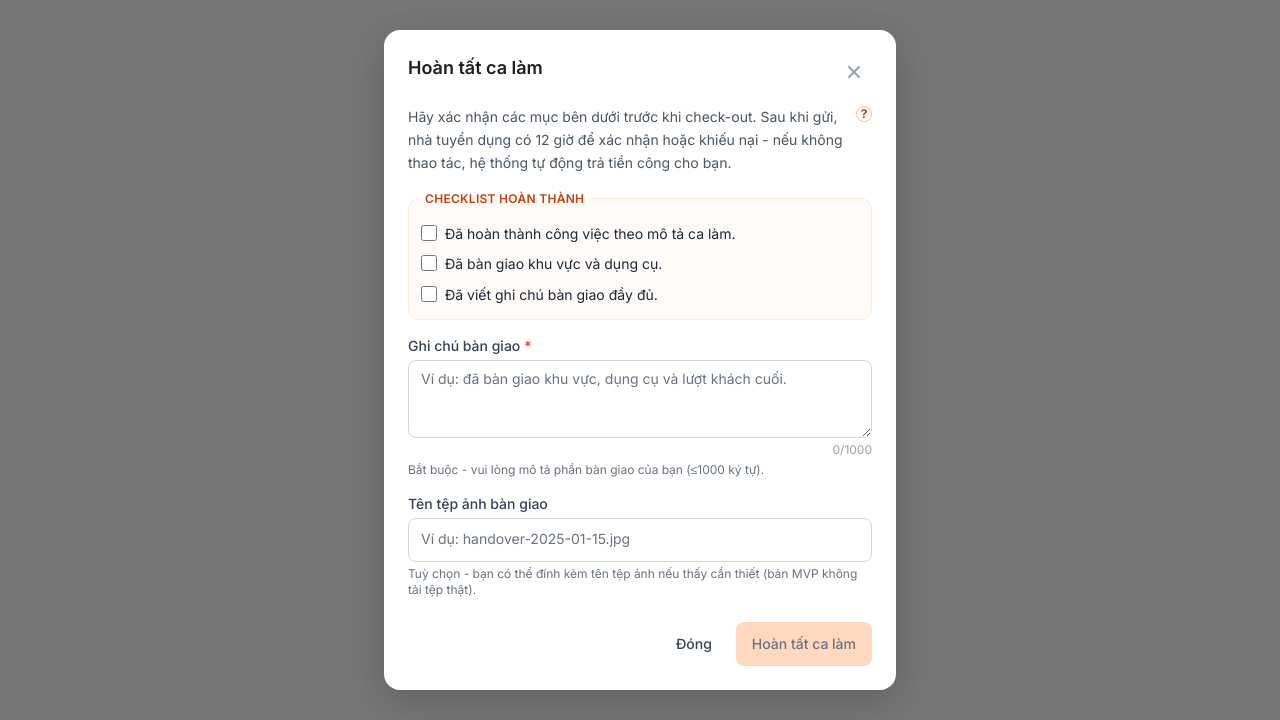
Scenario: <CheckoutDialog/> — Phase 10C › disables submit when RequiredHandoverChecklist is incomplete
The image size is (1280, 720).
Check: the button "Hoàn tất ca làm" is disabled, box [736,622,872,666]
Click the checkbox labelled "Đã hoàn thành công việc theo mô tả ca làm.": (429, 232) [421,224,437,240]
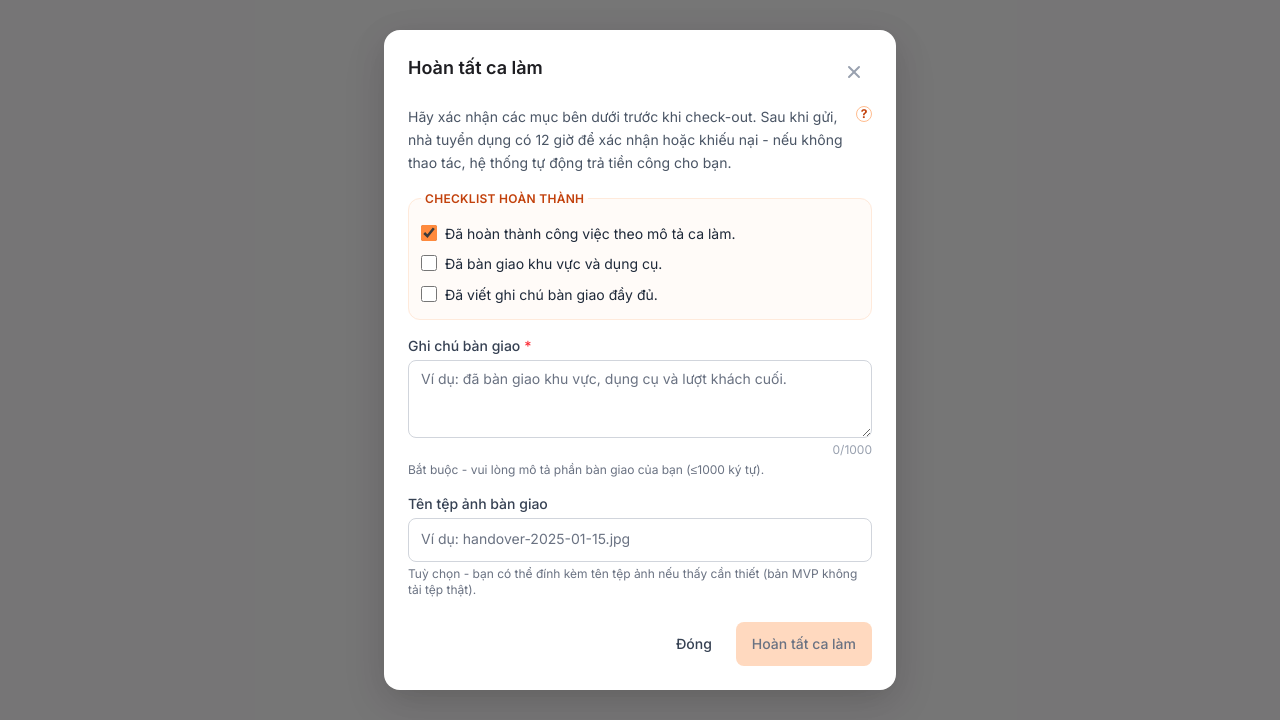
Click the checkbox labelled "Đã bàn giao khu vực và dụng cụ.": (429, 263) [421,255,437,271]
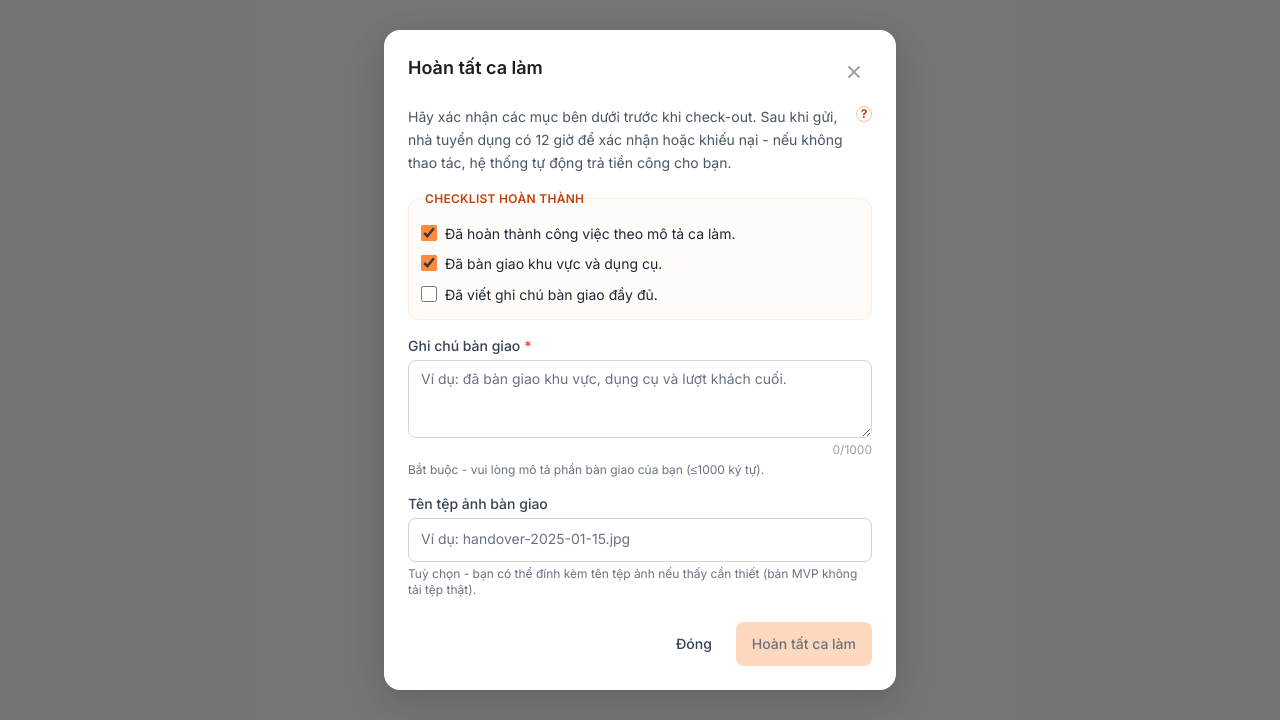
Click the checkbox labelled "Đã viết ghi chú bàn giao đầy đủ.": (429, 294) [421,286,437,302]
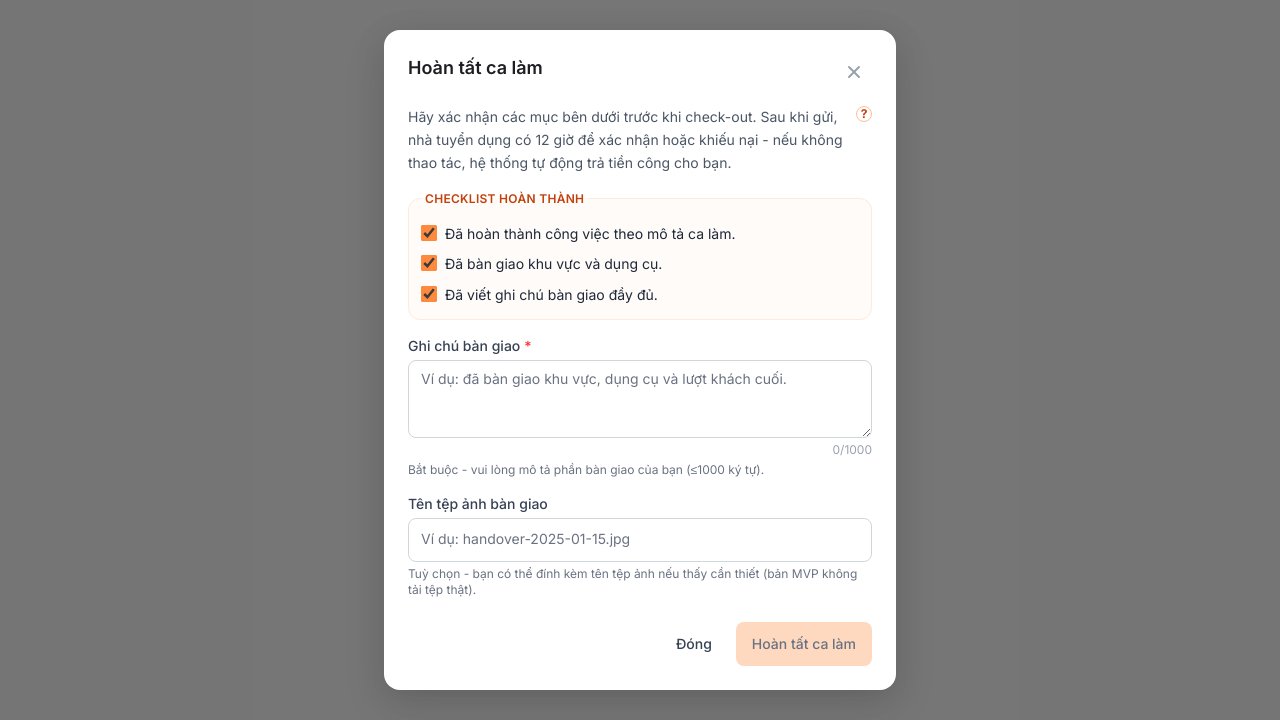
Check: the button "Hoàn tất ca làm" is disabled, box [736,622,872,666]
In the text box labelled "Ghi chú bàn giao*": (640, 399) [408,360,872,438], type "đã bàn giao xong"
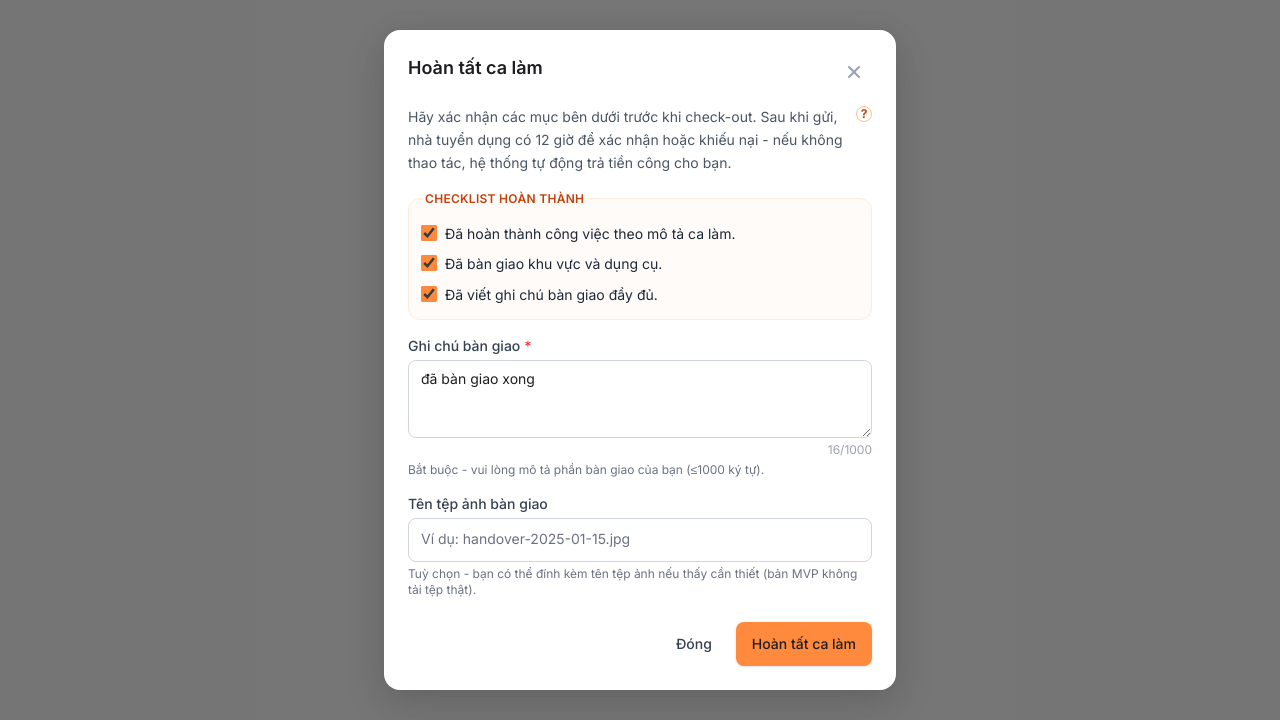
Check: the button "Hoàn tất ca làm" is enabled, box [736,622,872,666]
